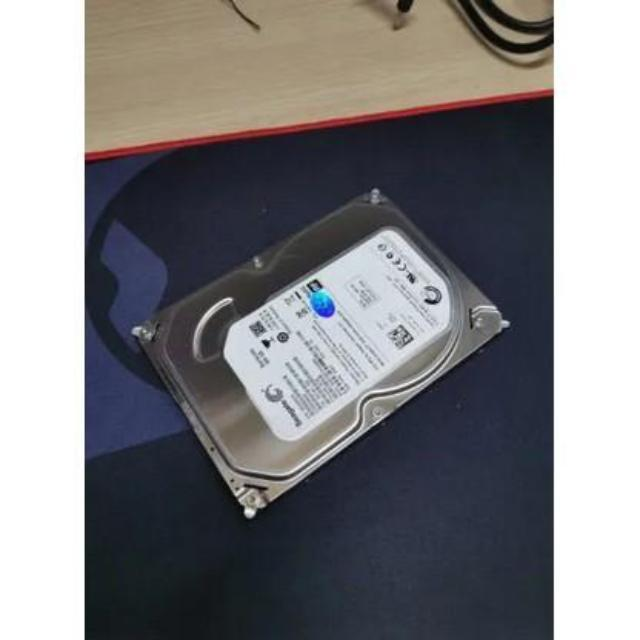DISK: (127, 190, 504, 524)
